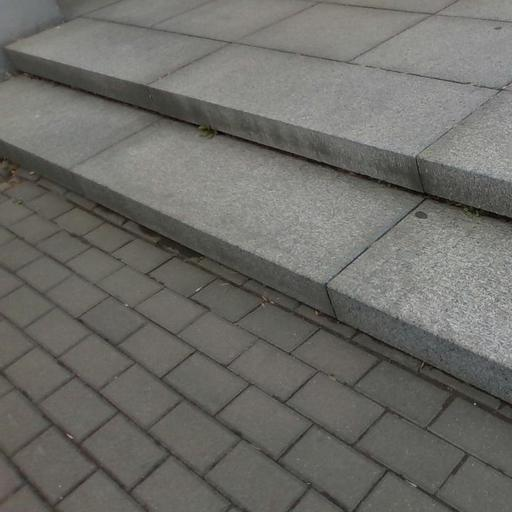stairs: (0, 19, 511, 400)
